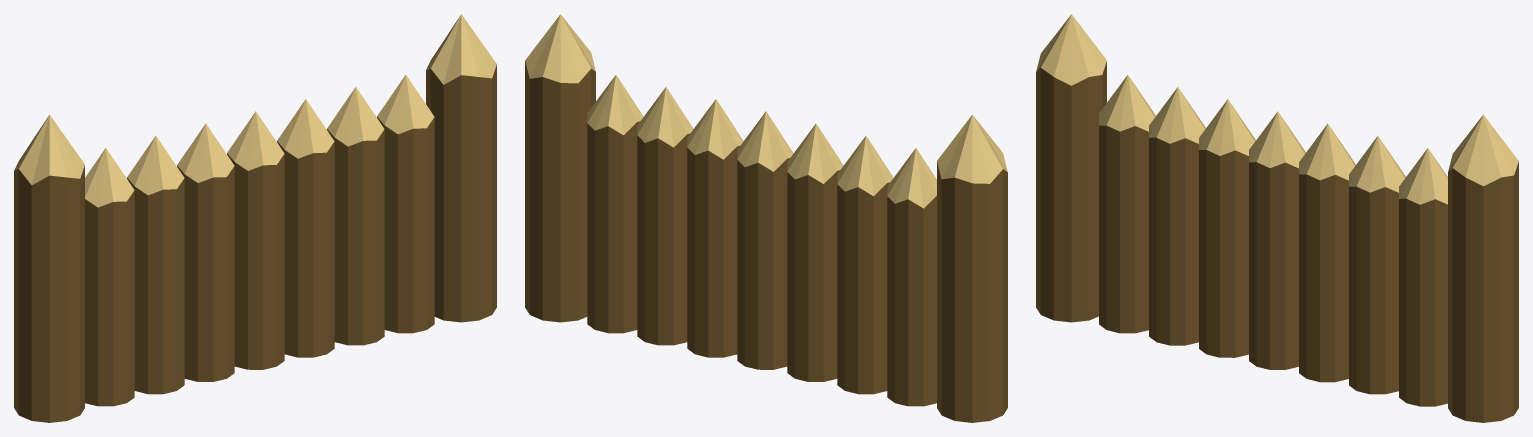
Rendered from WallLevel1.fbx.
3 renders of one model, left to right at view 1: azimuth 30°, elevation 25°; view 2: azimuth 150°, elevation 25°; view 3: azimuth 330°, elevation 25°, orthographic.
Parts seen in each view (by area): view 1: WoodFence; view 2: WoodFence; view 3: WoodFence.
Part boxes in pixels (x1=…): WoodFence: x1=14, y1=14, x2=496, y2=422; WoodFence: x1=525, y1=14, x2=1007, y2=422; WoodFence: x1=1036, y1=14, x2=1518, y2=422.
Bounding box in the file's own units: 1539 × 912 × 200.
